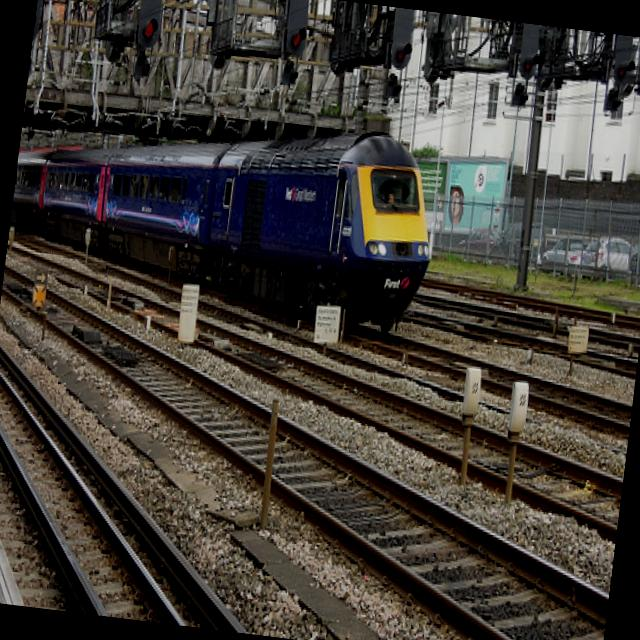Vehicle: (581, 233, 634, 274), (541, 234, 585, 266)
